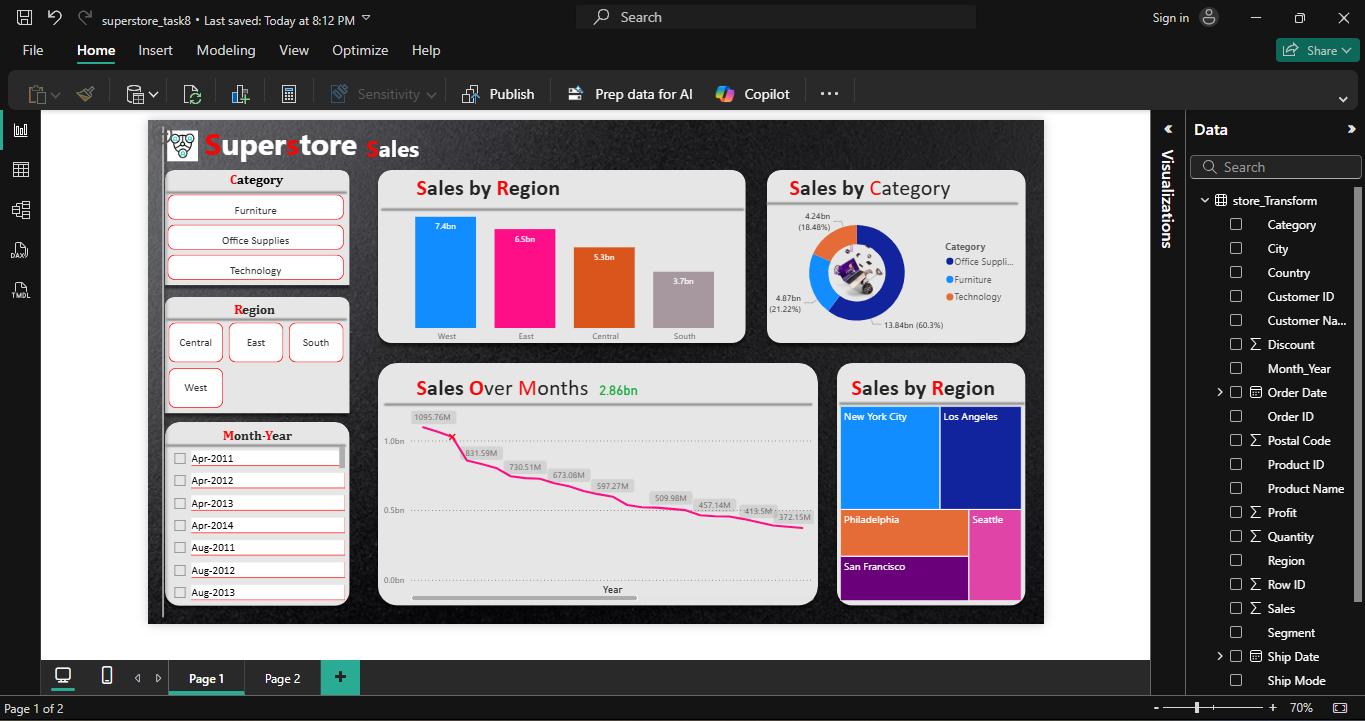

Layout of this report page (visuals, bound fields, positions):
{"tool":"powerbi","page":{"name":"Page 1","canvas":[1280,720],"ordinal":0},"visuals":[{"type":"textbox","box":[75.7,9.6,363.4,75.7],"z":0},{"type":"shape","box":[15.1,63.3,280.8,181.7],"z":1000},{"type":"shape","box":[320.7,63.3,542.3,264.3],"z":2000},{"type":"shape","box":[320.7,338.6,645.5,363.4],"z":3000},{"type":"shape","box":[875.4,63.3,386.8,264.3],"z":4000},{"type":"shape","box":[975.8,338.6,286.3,363.4],"z":5000},{"type":"shape","box":[15.1,243.6,280.8,183],"z":6000},{"type":"shape","box":[15.1,422.5,280.8,279.4],"z":7000},{"type":"shape","box":[0,0,43,720],"z":8000},{"type":"image","box":[22,9.6,55.1,53.7],"z":9000},{"type":"image","box":[946.9,158.3,133.5,104.6],"z":10000},{"type":"group","id":"g1","title":"Group 1","box":[21.8,48.2,1258.2,472.1],"z":11000},{"type":"columnChart","fields":{"Category":["store_Transform.Region"],"Y":["Sum(store_Transform.Total Sales)"]},"box":[331.7,101.8,531.3,225.7],"z":11000,"group":"g2"},{"type":"group","id":"g2","title":"Group 2","box":[23.4,101.8,1230.5,590.5],"z":12000},{"type":"kpi","fields":{"Indicator":["Sum(store_Transform.Total_Profit)"],"TrendLine":["store_Transform.Total Sales"],"Goal":["CountNonNull(store_Transform.Order ID)","CountNonNull(store_Transform.Product Name)"]},"box":[634.3,364.3,75.7,44.3],"z":13000},{"type":"actionButton","box":[0,0,100,40],"z":13001},{"type":"shape","box":[331.7,73,521.6,110.1],"z":17000,"group":"g1"},{"type":"textbox","box":[378.5,63.3,316.6,66.1],"z":19000,"group":"g1"},{"type":"shape","box":[335.8,351,615.2,110.1],"z":20000,"group":"g1"},{"type":"shape","box":[882.2,63.3,363.4,110.1],"z":21000,"group":"g1"},{"type":"shape","box":[985.4,349.6,268.4,110.1],"z":22000,"group":"g1"},{"type":"shape","box":[24.8,48.2,261.5,110.1],"z":23000,"group":"g1"},{"type":"shape","box":[24.8,229.9,261.5,110.1],"z":24000,"group":"g1"},{"type":"shape","box":[23.4,410.2,261.5,110.1],"z":25000,"group":"g1"},{"type":"textbox","box":[911.1,63.3,316.6,66.1],"z":26000,"group":"g1"},{"type":"textbox","box":[378.5,349.6,316.6,66.1],"z":27000,"group":"g1"},{"type":"textbox","box":[1000.6,349.6,279.4,66.1],"z":28000,"group":"g1"},{"type":"textbox","box":[24.5,72.8,260.9,37.3],"z":29000,"group":"g1"},{"type":"textbox","box":[21.8,254.6,260.9,37.3],"z":30000,"group":"g1"},{"type":"textbox","box":[25.4,434.6,260.9,37.3],"z":31000,"group":"g1"},{"type":"donutChart","fields":{"Category":["store_Transform.Category"],"Y":["Sum(store_Transform.Total Sales)"]},"box":[882.2,118.3,371.6,199.6],"z":34500,"group":"g2"},{"type":"lineChart","fields":{"Category":["store_Transform.Month_Year"],"Y":["Sum(store_Transform.Total Sales)"]},"box":[331.7,404.6,624.9,287.7],"z":35000,"group":"g2"},{"type":"slicer","fields":{"Values":["store_Transform.Month_Year"]},"box":[24.8,462.4,261.5,229.8],"z":35500,"group":"g2"},{"type":"advancedSlicerVisual","fields":{"Values":["store_Transform.Region"]},"box":[24.8,284.9,261.5,133.5],"z":36000,"group":"g2"},{"type":"advancedSlicerVisual","fields":{"Values":["store_Transform.Category"]},"box":[23.4,101.8,262.9,134.9],"z":36500,"group":"g2"},{"type":"treemap","fields":{"Group":["store_Transform.City"],"Values":["Sum(store_Transform.Total Sales)"]},"box":[985.5,404.6,268.4,287.7],"z":37000,"group":"g2"}]}

Visuals, with their boxes on the page's 1280x720 design canvas (x1, y1, x2, y2). These are canvas units, not pixel positions in the 1365x721 screenshot, which may show the page scaled, cropped or inside an application window:
textbox: select_region(76, 10, 439, 85)
shape: select_region(15, 63, 296, 245)
shape: select_region(321, 63, 863, 328)
shape: select_region(321, 339, 966, 702)
shape: select_region(875, 63, 1262, 328)
shape: select_region(976, 339, 1262, 702)
shape: select_region(15, 244, 296, 427)
shape: select_region(15, 422, 296, 702)
shape: select_region(0, 0, 43, 720)
image: select_region(22, 10, 77, 63)
image: select_region(947, 158, 1080, 263)
"Group 1" group: select_region(22, 48, 1280, 520)
columnChart - store_Transform.Region x Sum(store_Transform.Total Sales): select_region(332, 102, 863, 328)
"Group 2" group: select_region(23, 102, 1254, 692)
kpi - Sum(store_Transform.Total_Profit) x store_Transform.Total Sales: select_region(634, 364, 710, 409)
actionButton: select_region(0, 0, 100, 40)
shape: select_region(332, 73, 853, 183)
textbox: select_region(378, 63, 695, 129)
shape: select_region(336, 351, 951, 461)
shape: select_region(882, 63, 1246, 173)
shape: select_region(985, 350, 1254, 460)
shape: select_region(25, 48, 286, 158)
shape: select_region(25, 230, 286, 340)
shape: select_region(23, 410, 285, 520)
textbox: select_region(911, 63, 1228, 129)
textbox: select_region(378, 350, 695, 416)
textbox: select_region(1001, 350, 1280, 416)
textbox: select_region(24, 73, 285, 110)
textbox: select_region(22, 255, 283, 292)
textbox: select_region(25, 435, 286, 472)
donutChart - store_Transform.Category x Sum(store_Transform.Total Sales): select_region(882, 118, 1254, 318)
lineChart - store_Transform.Month_Year x Sum(store_Transform.Total Sales): select_region(332, 405, 957, 692)
slicer - store_Transform.Month_Year: select_region(25, 462, 286, 692)
advancedSlicerVisual - store_Transform.Region: select_region(25, 285, 286, 418)
advancedSlicerVisual - store_Transform.Category: select_region(23, 102, 286, 237)
treemap - store_Transform.City x Sum(store_Transform.Total Sales): select_region(986, 405, 1254, 692)
